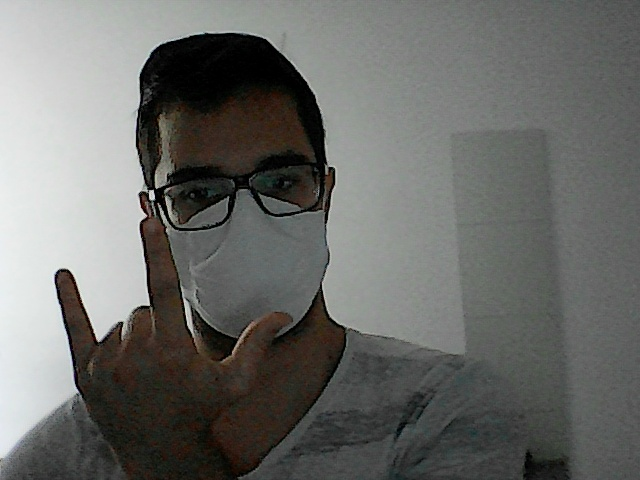shoot: (47, 209, 300, 425)
